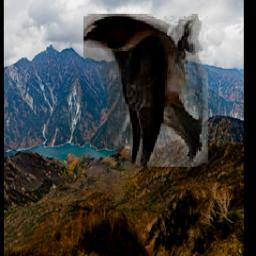Swallow: (83, 14, 207, 167)
